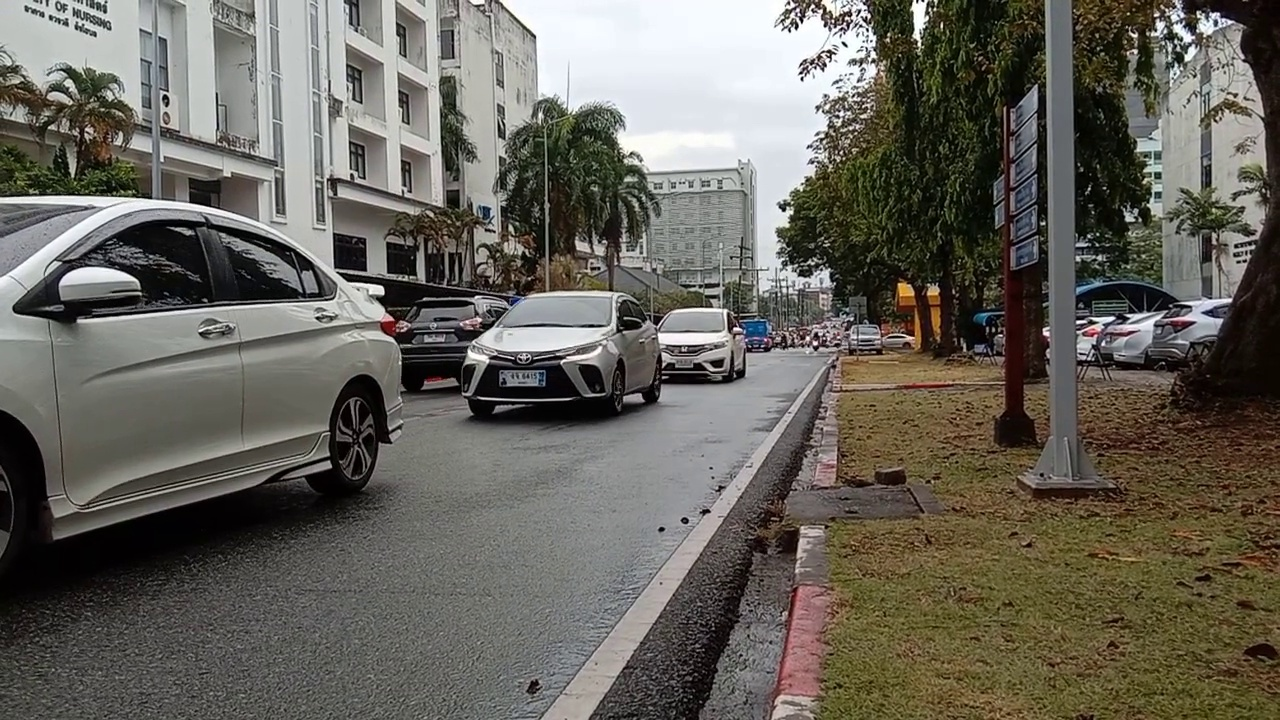License Plate: (498, 368, 545, 388)
